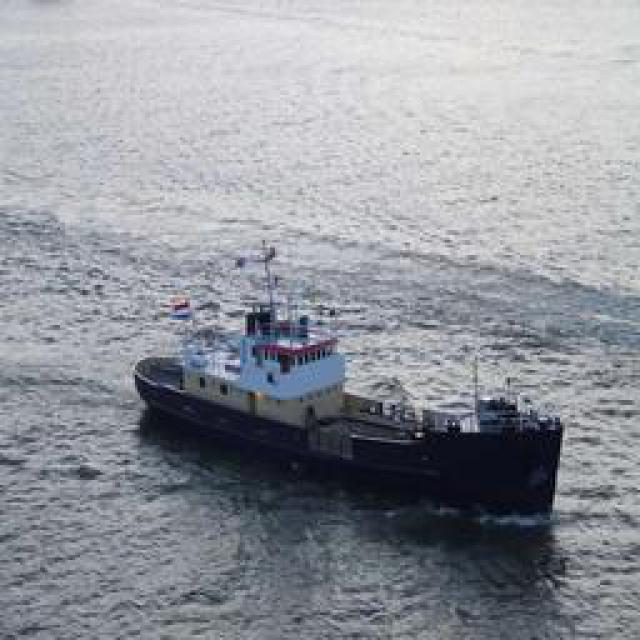Ship: (140, 251, 570, 514)
